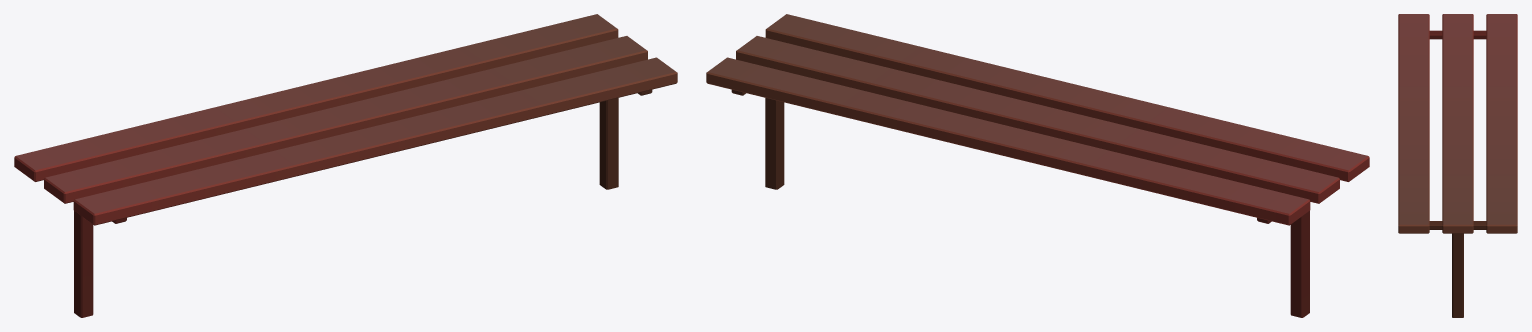
File: LavkaRd.fbx
The picture shows the model from 3 angles, left to right: view 1: azimuth 30°, elevation 25°; view 2: azimuth 150°, elevation 25°; view 3: azimuth 270°, elevation 25°; orthographic projection. The views are drawn at different scales.
Visible parts, largest first — view 1: Bench; view 2: Bench; view 3: Bench.
Part boxes in pixels (left/top/right/bottom): Bench: left=14, top=14, right=677, bottom=317; Bench: left=706, top=14, right=1369, bottom=317; Bench: left=1398, top=14, right=1517, bottom=317.
Bounding box in the file's own units: 7.28 × 1.74 × 1.62.
